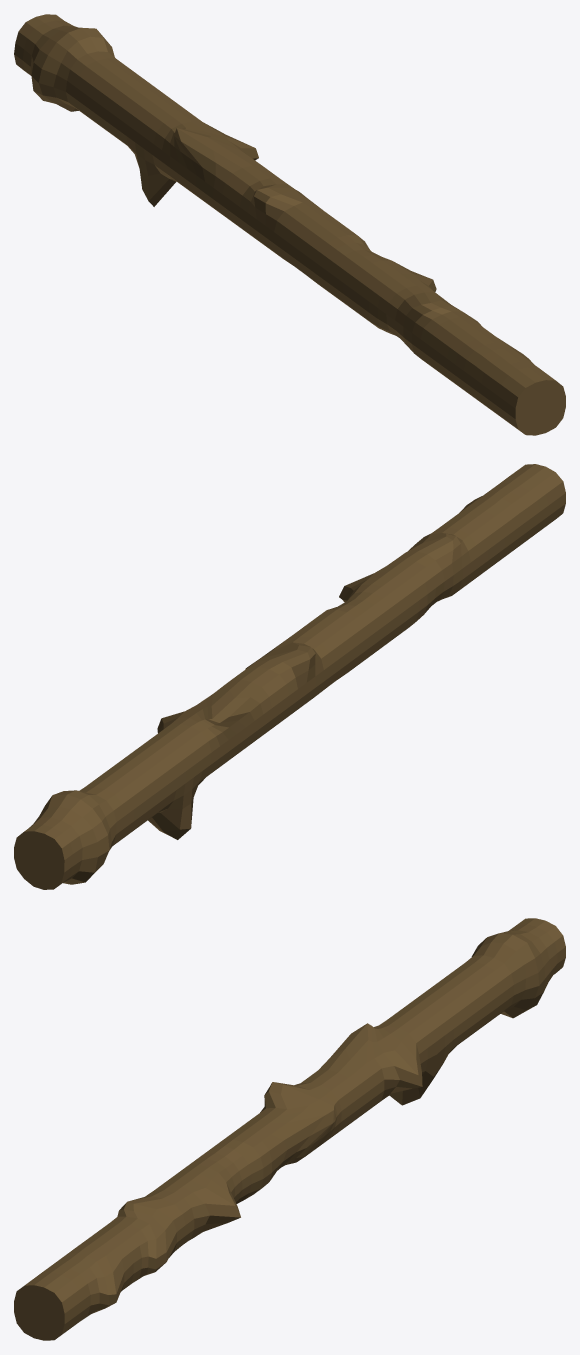
Rendered from Weapon_Wand.fbx.
3 renders of one model, top to bottom at view 1: azimuth 30°, elevation 25°; view 2: azimuth 150°, elevation 25°; view 3: azimuth 330°, elevation 25°, orthographic.
Parts seen in each view (by area): view 1: Weapon_Wand; view 2: Weapon_Wand; view 3: Weapon_Wand.
Boxes of the visible parts, x1,y1,x2,y2 form: Weapon_Wand: (14, 14, 565, 435); Weapon_Wand: (14, 464, 565, 889); Weapon_Wand: (14, 918, 565, 1340).
Size of the model in its own units: 8.01 by 9.57 by 80.59.
